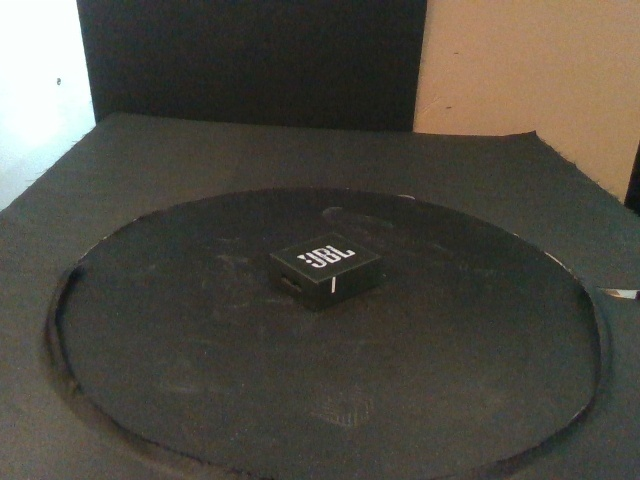speaker: (269, 231, 384, 315)
